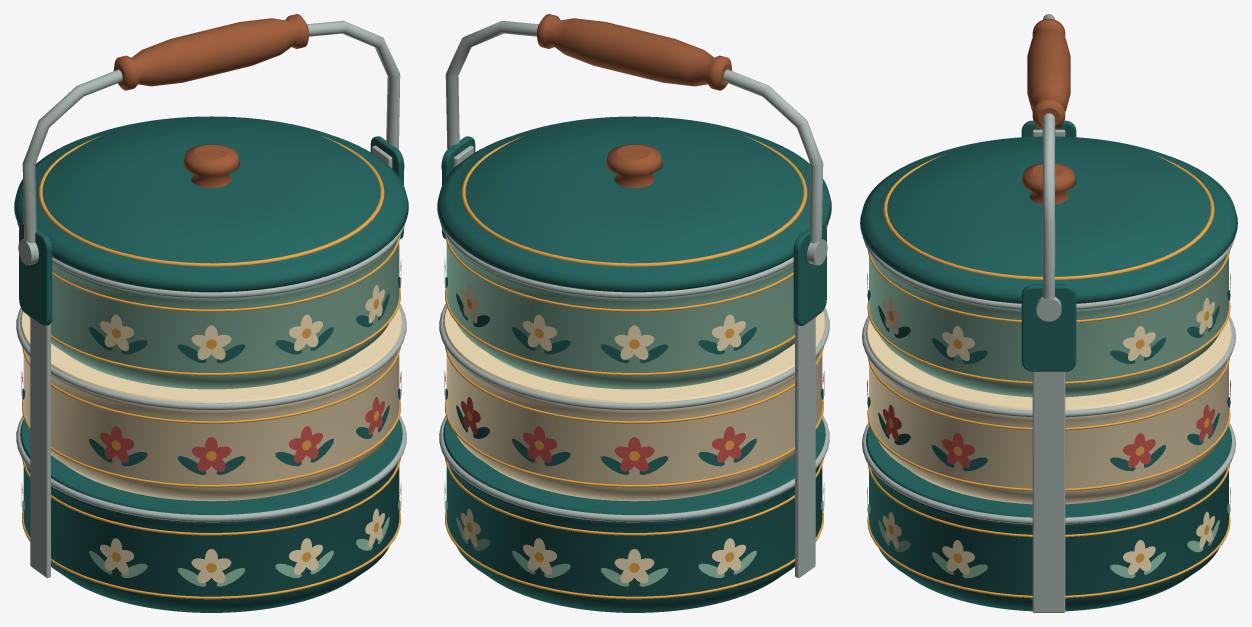
3 views of the same model, side by side, from view 1: azimuth 30°, elevation 25°; view 2: azimuth 150°, elevation 25°; view 3: azimuth 270°, elevation 25° (orthographic). The views are drawn at different scales.
Visible parts, largest first — view 1: Domed cover, Lower tier, Middle tier, Upper tier, Carrier frame, Fired floral sprays; view 2: Domed cover, Lower tier, Middle tier, Upper tier, Carrier frame, Fired floral sprays; view 3: Domed cover, Lower tier, Middle tier, Upper tier, Carrier frame, Fired floral sprays.
Boxes of the visible parts, bbox=[...] form: Domed cover: bbox=[14, 116, 408, 292]; Lower tier: bbox=[16, 415, 406, 612]; Middle tier: bbox=[16, 304, 406, 501]; Upper tier: bbox=[17, 221, 405, 389]; Carrier frame: bbox=[18, 14, 404, 577]; Fired floral sprays: bbox=[21, 259, 401, 586]; Domed cover: bbox=[437, 116, 831, 292]; Lower tier: bbox=[439, 415, 829, 612]; Middle tier: bbox=[439, 304, 829, 501]; Upper tier: bbox=[440, 221, 828, 389]; Carrier frame: bbox=[441, 14, 827, 577]; Fired floral sprays: bbox=[444, 259, 824, 586]; Domed cover: bbox=[860, 136, 1237, 303]; Lower tier: bbox=[862, 423, 1235, 611]; Middle tier: bbox=[862, 315, 1235, 504]; Upper tier: bbox=[862, 236, 1235, 397]; Carrier frame: bbox=[1021, 14, 1076, 612]; Fired floral sprays: bbox=[867, 273, 1230, 578].
Size of the model in its own units: 0.2287 by 0.299 by 0.208.
